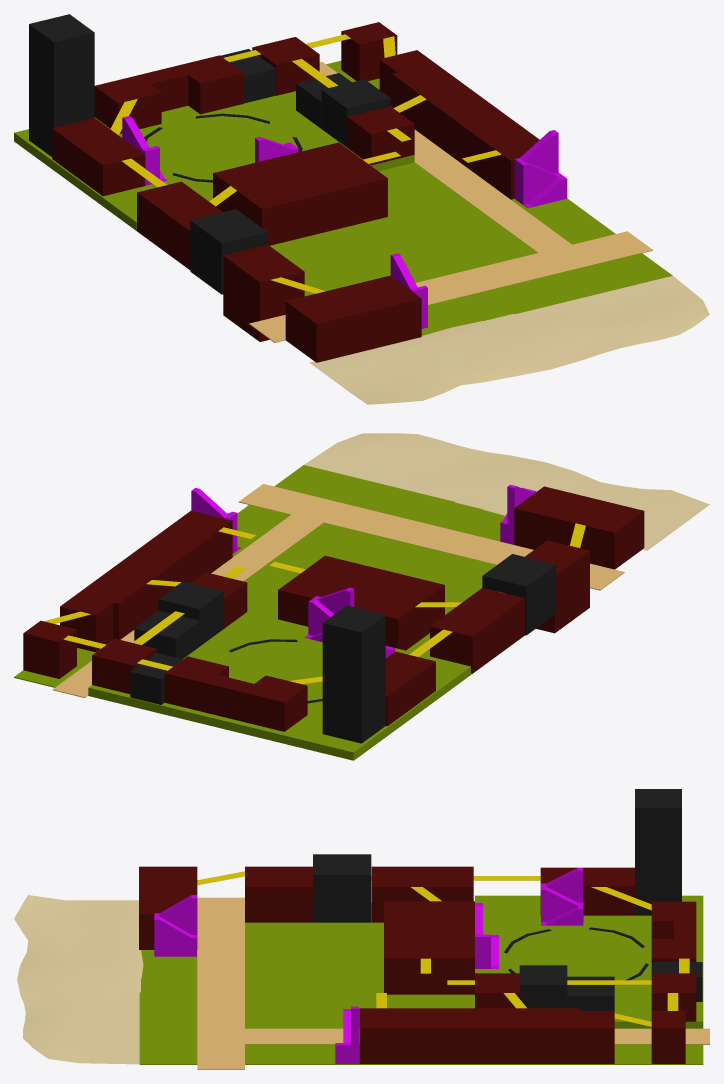
The model's file is Cidade.fbx.
The picture shows the model from 3 angles, top to bottom: view 1: azimuth 30°, elevation 25°; view 2: azimuth 150°, elevation 25°; view 3: azimuth 270°, elevation 25°; orthographic projection. The views are drawn at different scales.
Visible parts, largest first — view 1: Rua.001, Praia; view 2: Rua.001, Praia; view 3: Rua.001, Praia.
Part boxes in pixels (box(x1,y1,x2,y2)): Rua.001: box(14, 14, 672, 362); Praia: box(309, 276, 709, 404); Rua.001: box(14, 465, 644, 760); Praia: box(304, 433, 709, 550); Rua.001: box(139, 789, 709, 1069); Praia: box(14, 895, 143, 1064).
Size of the model in its own units: 15292 by 5603 by 26198.
